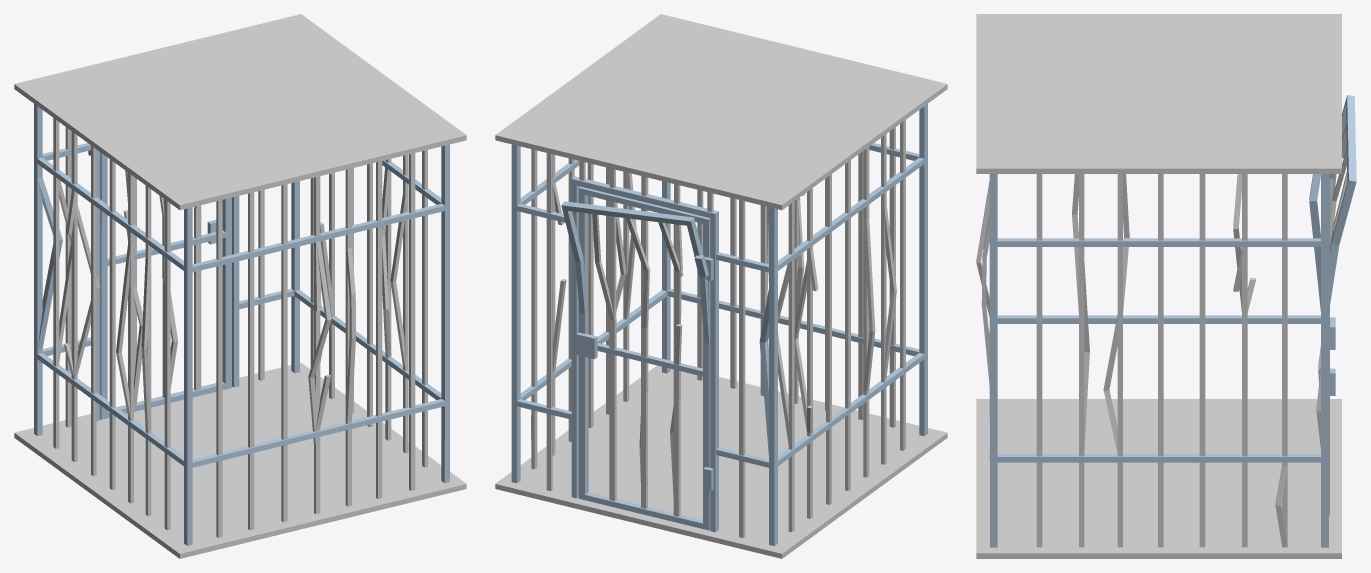
The model's file is Cell.fbx.
3 renders of one model, left to right at view 1: azimuth 30°, elevation 25°; view 2: azimuth 150°, elevation 25°; view 3: azimuth 270°, elevation 25°, orthographic. The views are drawn at different scales.
Parts seen in each view (by area): view 1: Cell1.3, Cell1.2, CellDoor1.3, CellDoor1.2, CellDoor1.1, Cell1.1; view 2: Cell1.3, CellDoor1.3, Cell1.2, CellDoor1.2, CellDoor1.1, Cell1.1; view 3: Cell1.3, Cell1.2, CellDoor1.3.
Part boxes in pixels (bbox=[...]): Cell1.3: bbox=[14, 14, 466, 558]; Cell1.2: bbox=[34, 104, 408, 516]; CellDoor1.3: bbox=[88, 150, 230, 419]; CellDoor1.2: bbox=[100, 152, 231, 419]; CellDoor1.1: bbox=[102, 154, 231, 419]; Cell1.1: bbox=[71, 133, 320, 513]; Cell1.3: bbox=[495, 14, 947, 558]; CellDoor1.3: bbox=[561, 201, 713, 530]; Cell1.2: bbox=[531, 135, 886, 544]; CellDoor1.2: bbox=[577, 187, 713, 530]; CellDoor1.1: bbox=[576, 186, 710, 529]; Cell1.1: bbox=[794, 189, 812, 517]; Cell1.3: bbox=[976, 14, 1341, 558]; Cell1.2: bbox=[976, 174, 1320, 547]; CellDoor1.3: bbox=[1316, 95, 1356, 448].
Bounding box in the file's own units: 360 × 424 × 374.
